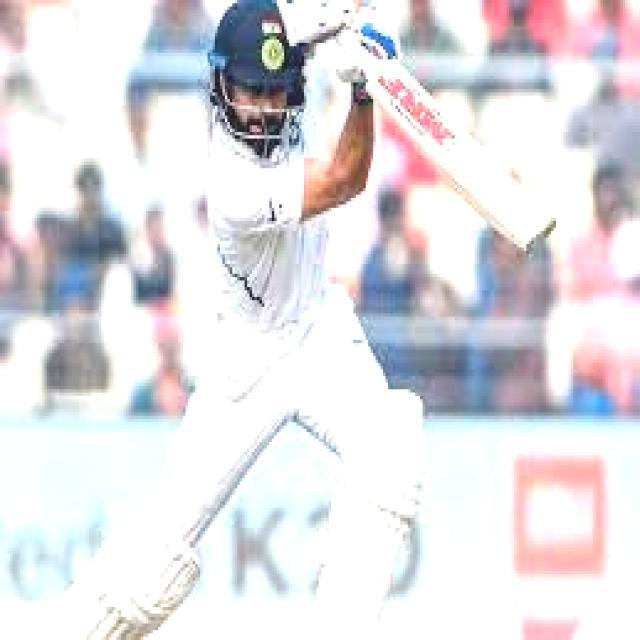bat: (362, 69, 564, 268)
toe: (517, 215, 562, 257)
